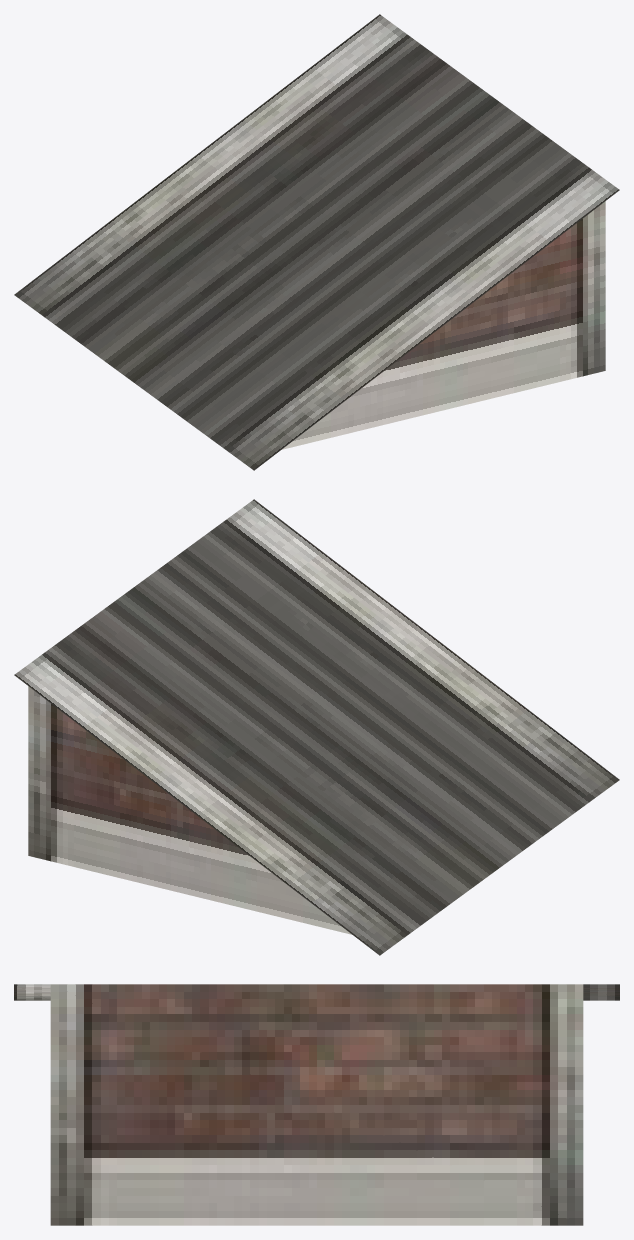
File: wall-a-roof-slant-detailed.glb
3 renders of one model, top to bottom at view 1: azimuth 30°, elevation 25°; view 2: azimuth 150°, elevation 25°; view 3: azimuth 270°, elevation 25°, orthographic. The views are drawn at different scales.
Visible parts, largest first — view 1: wall-a-roof-slant-detailed; view 2: wall-a-roof-slant-detailed; view 3: wall-a-roof-slant-detailed.
Part boxes in pixels (<box>): wall-a-roof-slant-detailed: <box>14,14,619,470</box>; wall-a-roof-slant-detailed: <box>14,499,619,955</box>; wall-a-roof-slant-detailed: <box>14,984,619,1225</box>.
Size of the model in its own units: 1 by 0.5001 by 1.14.
3 materials, 3 textured.
